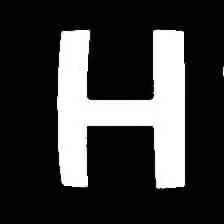LTR_H: (40, 11, 198, 193)
